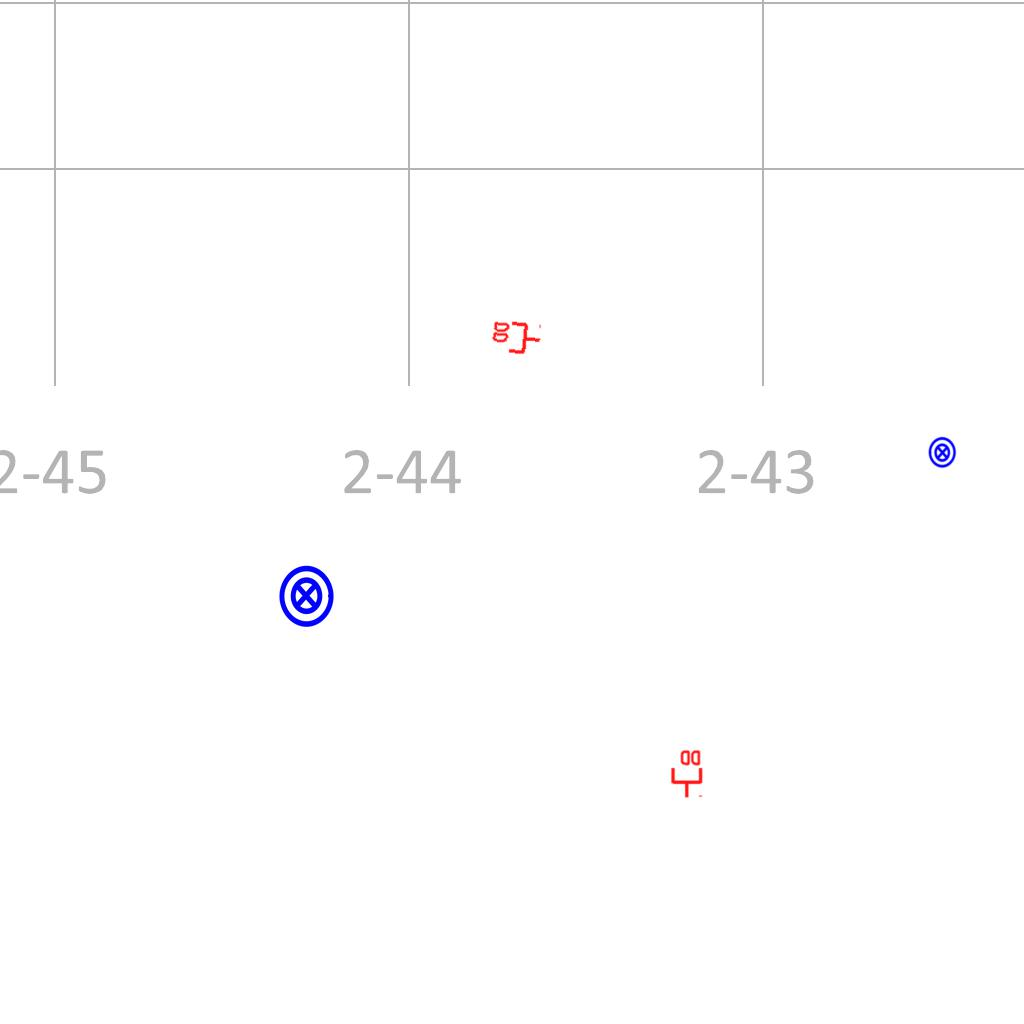Datenanschluss_zweifach: (488, 318, 544, 359), (669, 748, 703, 799)
Taster_beleuchtet: (273, 563, 339, 629), (926, 436, 959, 469)
